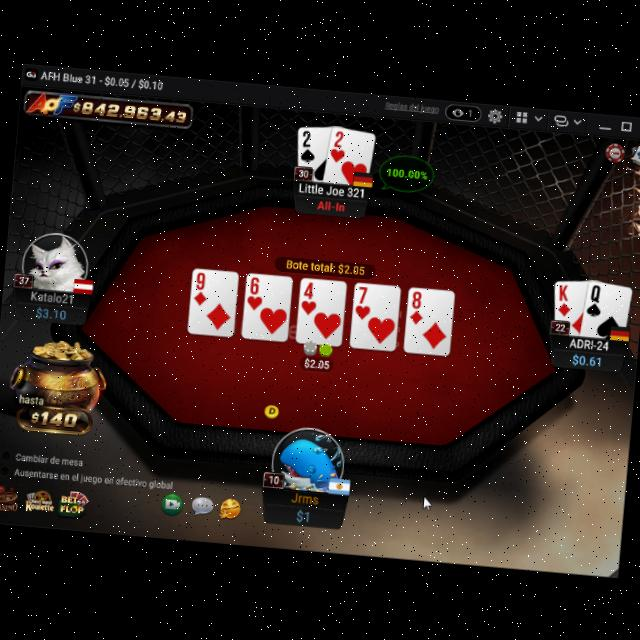2h: (327, 126, 348, 162)
2s: (298, 124, 320, 162)
4h: (298, 278, 320, 314)
6h: (244, 273, 266, 311)
7h: (354, 284, 374, 320)
8d: (408, 288, 426, 326)
9d: (192, 267, 212, 306)
Kd: (554, 282, 572, 316)
Qs: (584, 278, 606, 318)
all_in_symbol: (314, 196, 346, 213)
bet_text: (302, 354, 330, 368)
dealer: (262, 398, 280, 418)
pot_text: (285, 256, 367, 276)
stack_text: (34, 302, 68, 319), (571, 350, 602, 367), (294, 502, 312, 520)
